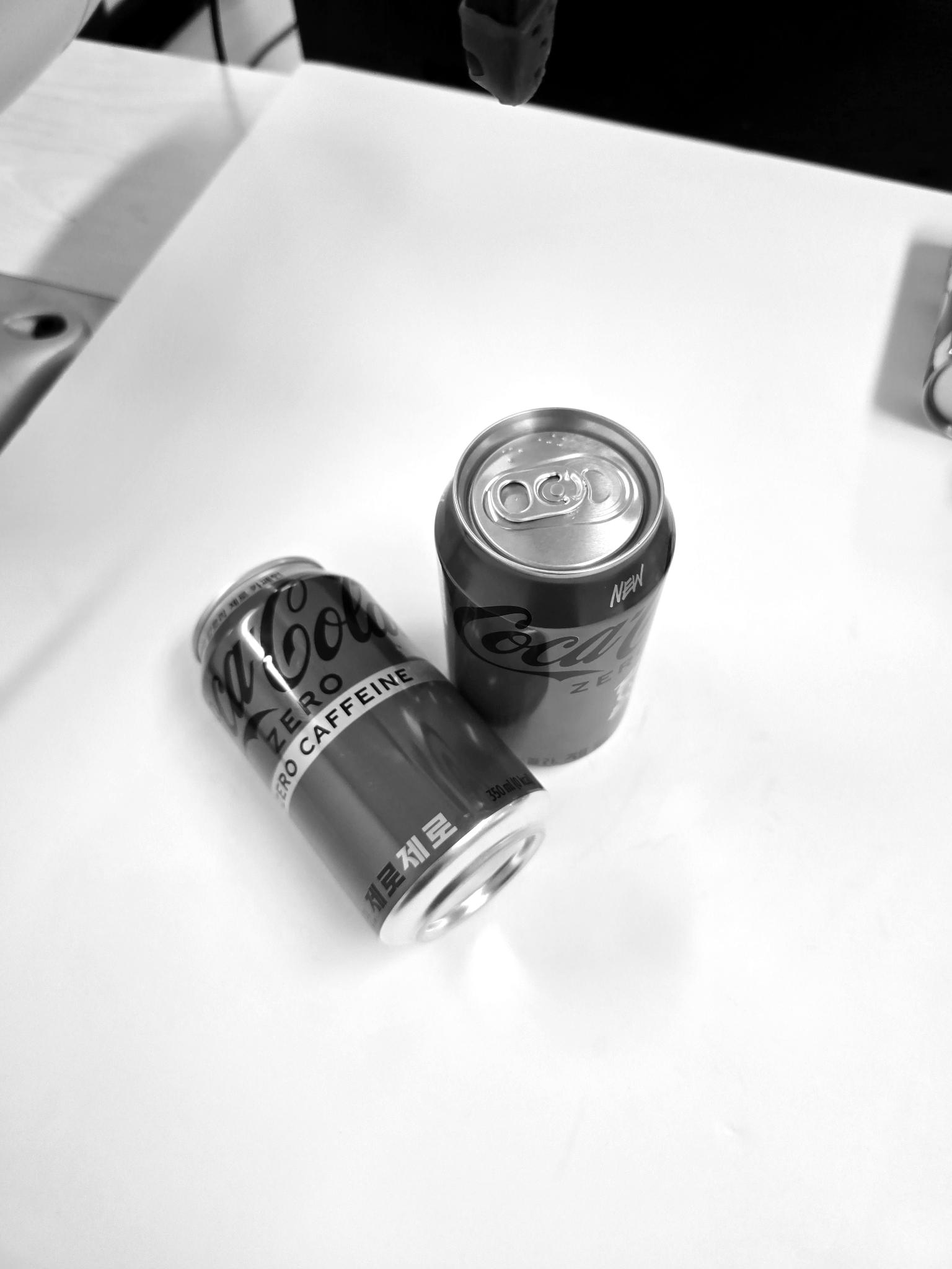can_coke_decaf: (178, 550, 546, 959)
can_coke_zero: (441, 402, 674, 770)
